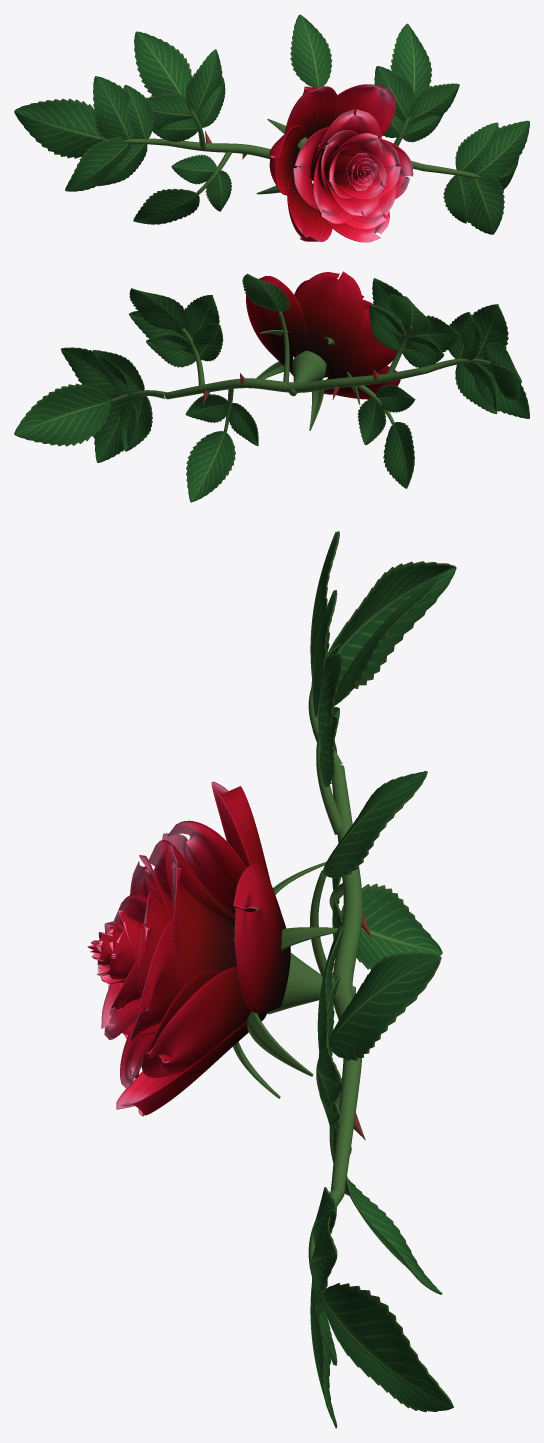
Rendered from rosa.glb.
3 renders of one model, top to bottom at view 1: azimuth 30°, elevation 25°; view 2: azimuth 150°, elevation 25°; view 3: azimuth 270°, elevation 25°, orthographic. The views are drawn at different scales.
Visible parts, largest first — view 1: Rosa_Roja_Flor; view 2: Rosa_Roja_Flor; view 3: Rosa_Roja_Flor.
Part boxes in pixels (box(x1,y1,x2,y2)): Rosa_Roja_Flor: box(14, 14, 529, 242); Rosa_Roja_Flor: box(14, 271, 529, 502); Rosa_Roja_Flor: box(87, 531, 456, 1428).
Size of the model in its own units: 0.4924 by 0.2476 by 0.1563.
4 materials, 1 textured.
